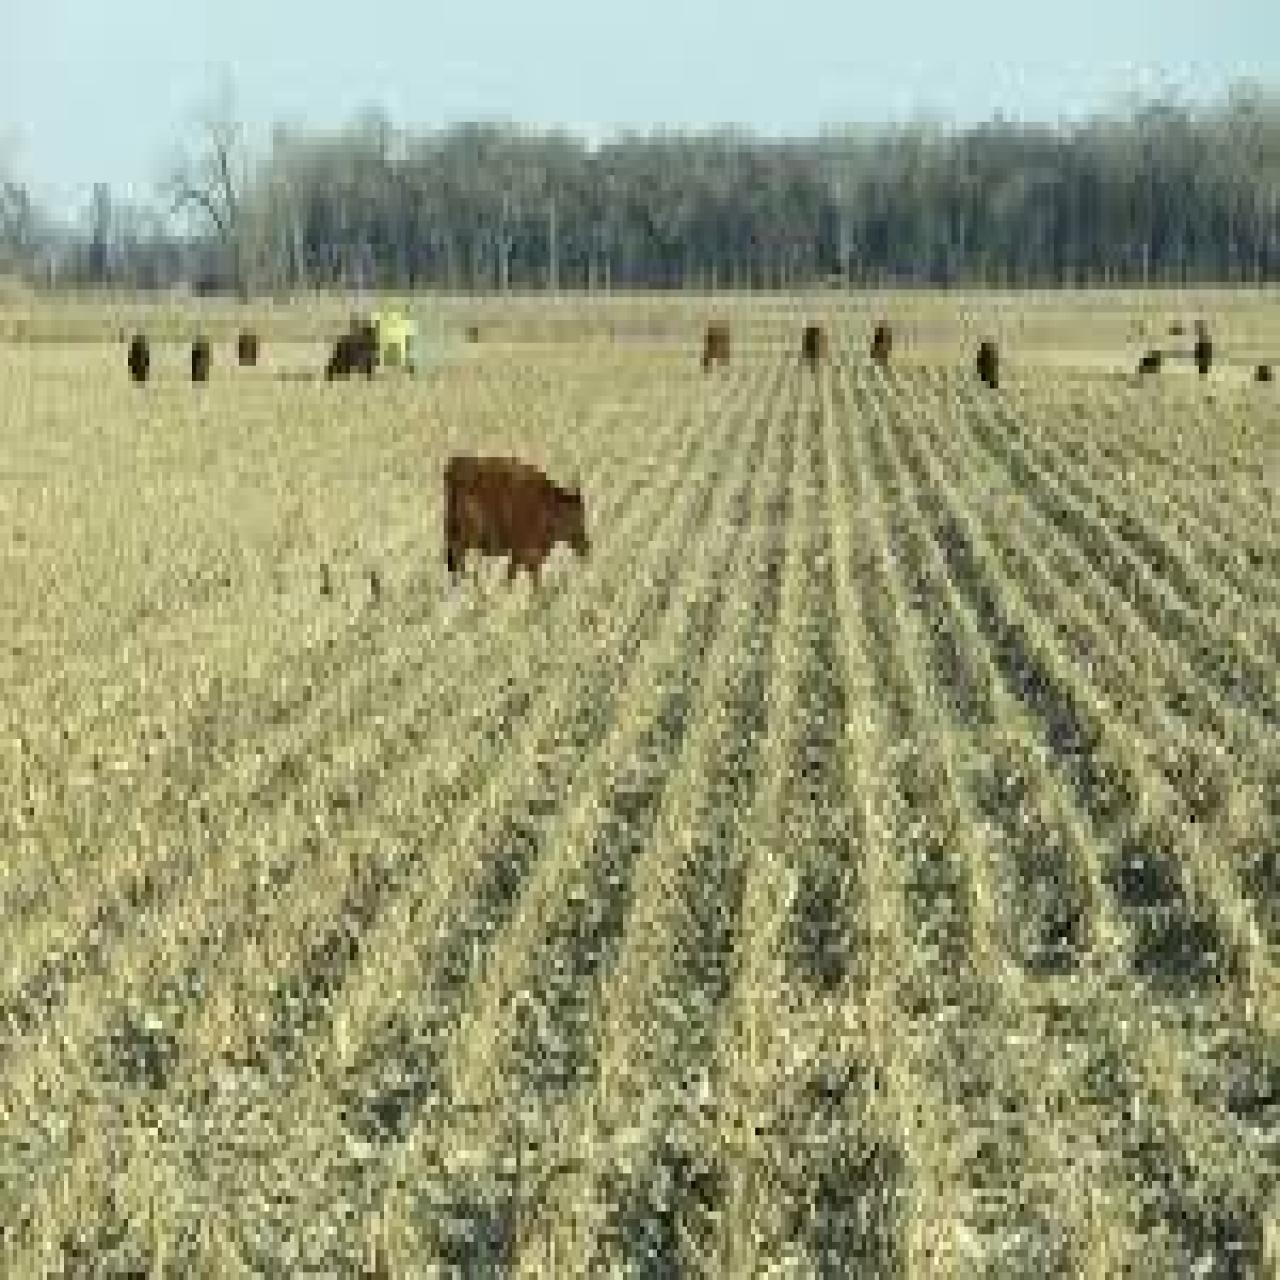cow: (439, 446, 589, 598), (327, 320, 378, 381), (698, 316, 732, 377), (972, 335, 1002, 396), (800, 320, 830, 373), (870, 316, 896, 370)
